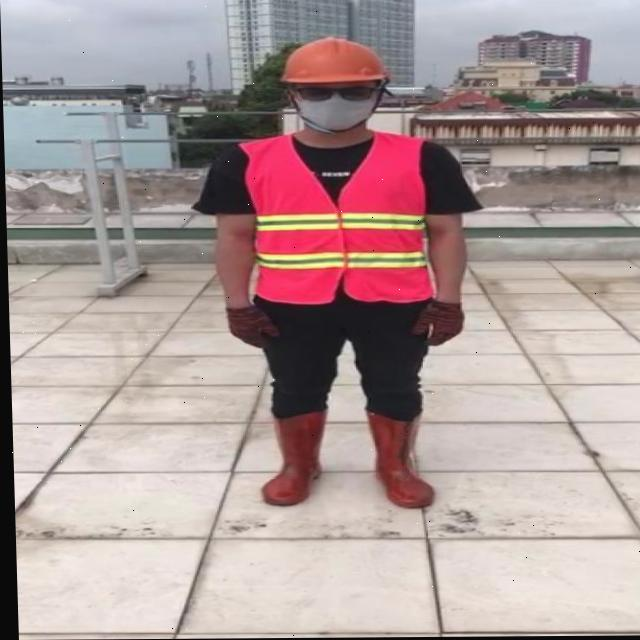Gloves: (407, 298, 462, 347), (223, 304, 277, 349)
Safety-Boot: (362, 406, 431, 509), (255, 407, 325, 506)
Safety-Vest: (236, 130, 433, 307)
